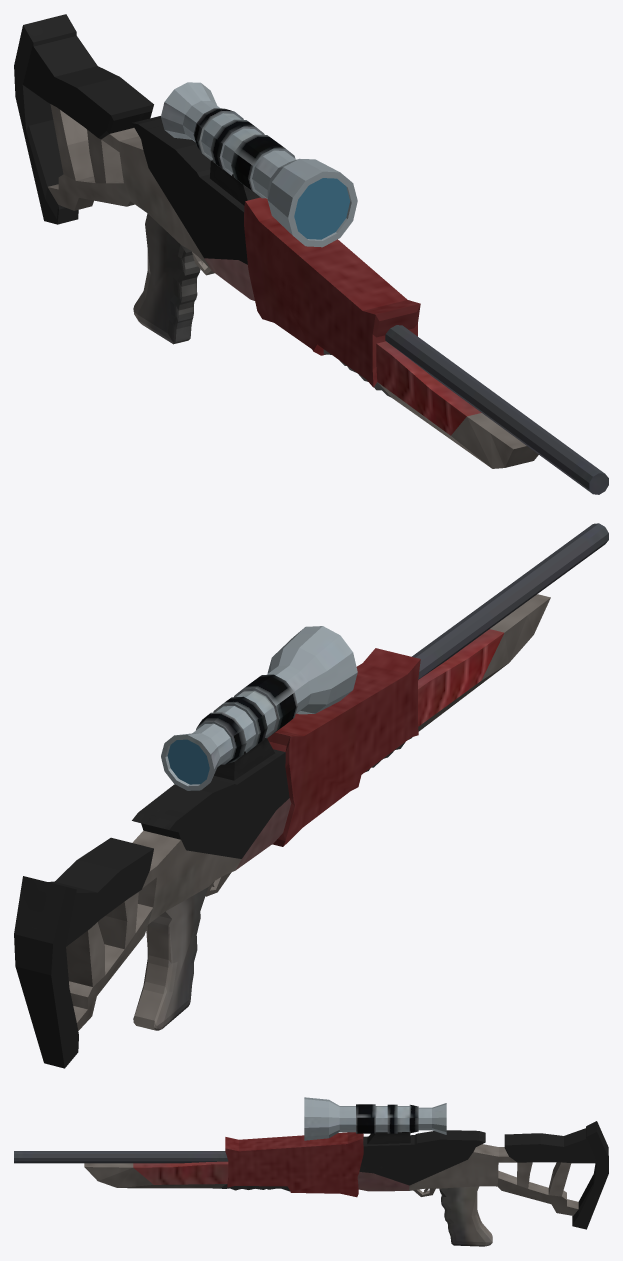
The model's file is francotirador.obj.
3 views of the same model, one above another, from view 1: azimuth 30°, elevation 25°; view 2: azimuth 150°, elevation 25°; view 3: azimuth 270°, elevation 25° (orthographic). The views are drawn at different scales.
Parts seen in each view (by area): view 1: Franco_Cube.001; view 2: Franco_Cube.001; view 3: Franco_Cube.001.
Boxes of the visible parts, x1=… form: Franco_Cube.001: x1=14, y1=14, x2=608, y2=494; Franco_Cube.001: x1=14, y1=523, x2=608, y2=1068; Franco_Cube.001: x1=14, y1=1097, x2=608, y2=1246.
Size of the model in its own units: 0.3361 by 1.27 by 4.73.
10 materials, 9 textured.
